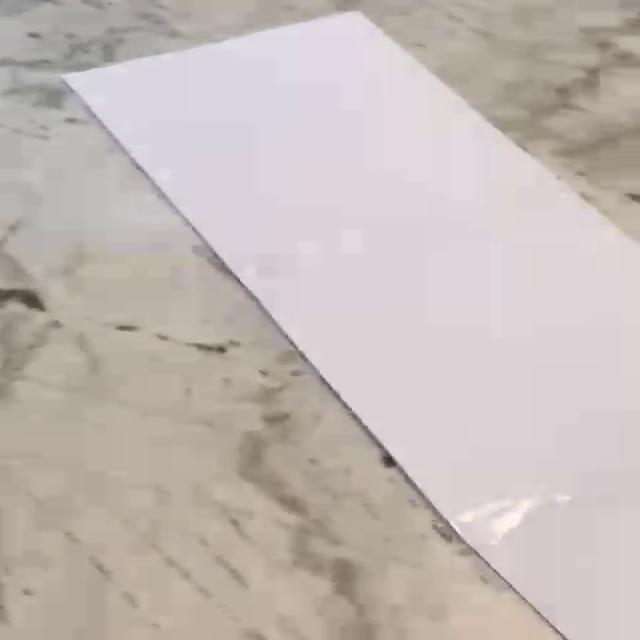road: (64, 12, 639, 640)
